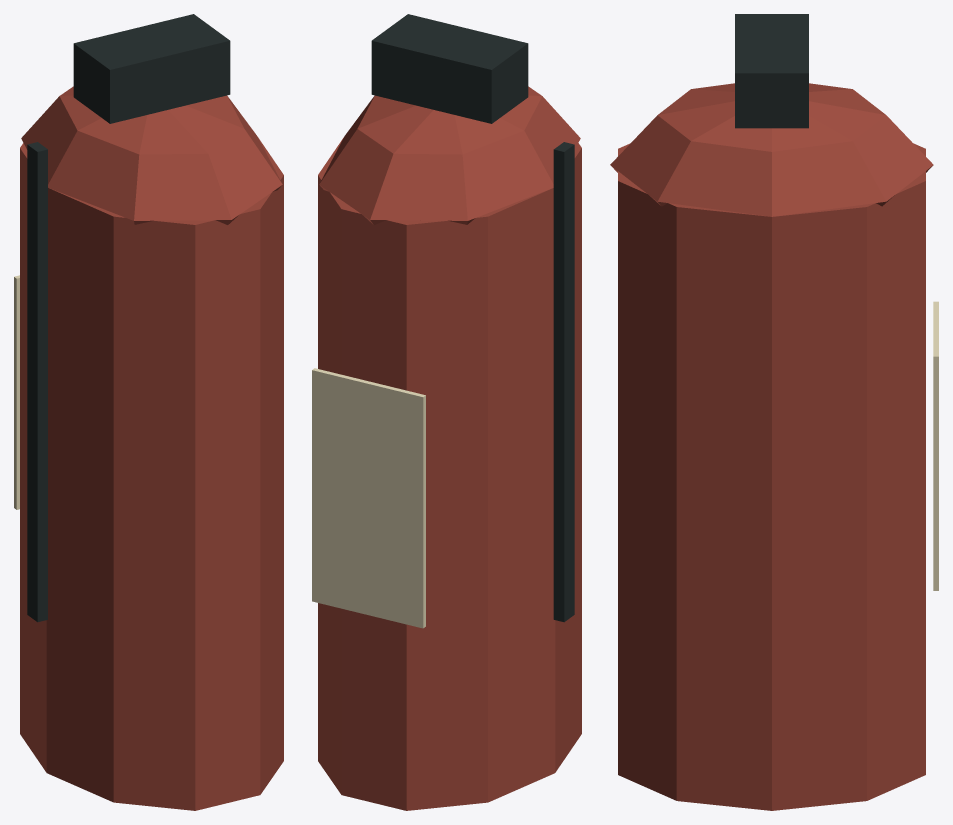
The model's file is LP_Exit_Extinguisher.fbx.
3 views of the same model, side by side, from view 1: azimuth 30°, elevation 25°; view 2: azimuth 150°, elevation 25°; view 3: azimuth 270°, elevation 25° (orthographic).
Visible parts, largest first — view 1: M_Museum_OxideRed, Charcoal, WarmIvory; view 2: M_Museum_OxideRed, WarmIvory, Charcoal; view 3: M_Museum_OxideRed, Charcoal, WarmIvory.
Part boxes in pixels (x1=…): M_Museum_OxideRed: x1=20, y1=86, x2=283, y2=810; Charcoal: x1=27, y1=14, x2=230, y2=622; WarmIvory: x1=14, y1=275, x2=19, y2=509; M_Museum_OxideRed: x1=318, y1=86, x2=581, y2=810; WarmIvory: x1=312, y1=368, x2=425, y2=628; Charcoal: x1=371, y1=14, x2=574, y2=622; M_Museum_OxideRed: x1=610, y1=83, x2=933, y2=810; Charcoal: x1=735, y1=14, x2=808, y2=128; WarmIvory: x1=933, y1=301, x2=938, y2=590.
Bounding box in the file's own units: 20 × 60 × 25.
